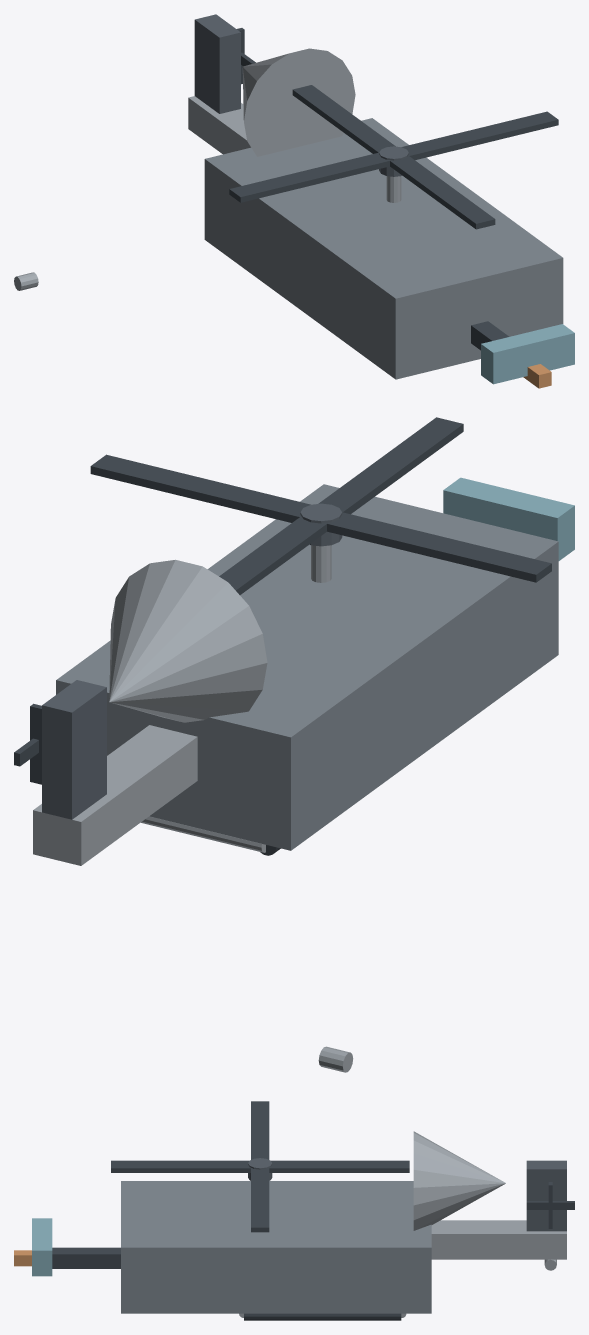
The model's file is human_mg_helicopter.glb.
3 views of the same model, one above another, from view 1: azimuth 30°, elevation 25°; view 2: azimuth 150°, elevation 25°; view 3: azimuth 270°, elevation 25° (orthographic). The views are drawn at different scales.
Parts seen in each view (by area): view 1: fuselage, nose, main_rotor_blade_a, main_rotor_blade_b, tail_fin, cockpit_glass, tail_boom, nose_gun, main_rotor_hub, nose_muzzle; view 2: fuselage, nose, tail_boom, main_rotor_blade_a, tail_fin, main_rotor_blade_b, cockpit_glass, skid_cross_rear, main_rotor_hub, tail_rotor_blade_a; view 3: fuselage, tail_boom, nose, main_rotor_blade_b, tail_fin, main_rotor_blade_a, nose_gun, skid_right, cockpit_glass, tail_rotor_blade_b, nose_muzzle.
Boxes of the visible parts, left/top/right/bottom form: fuselage: left=204, top=118, right=563, bottom=379; nose: left=242, top=48, right=355, bottom=156; main_rotor_blade_a: left=229, top=111, right=558, bottom=202; main_rotor_blade_b: left=292, top=85, right=495, bottom=229; tail_fin: left=194, top=14, right=240, bottom=113; cockpit_glass: left=481, top=324, right=574, bottom=384; tail_boom: left=188, top=96, right=250, bottom=154; nose_gun: left=471, top=321, right=509, bottom=350; main_rotor_hub: left=379, top=146, right=408, bottom=176; nose_muzzle: left=523, top=364, right=551, bottom=388; fuselage: left=56, top=484, right=558, bottom=850; nose: left=109, top=559, right=267, bottom=722; tail_boom: left=33, top=725, right=197, bottom=865; main_rotor_blade_a: left=90, top=454, right=551, bottom=582; tail_fin: left=42, top=680, right=106, bottom=819; main_rotor_blade_b: left=219, top=417, right=463, bottom=594; cockpit_glass: left=443, top=477, right=574, bottom=560; skid_cross_rear: left=141, top=816, right=265, bottom=852; main_rotor_hub: left=300, top=503, right=342, bottom=546; tail_rotor_blade_a: left=30, top=703, right=41, bottom=784; fuselage: left=121, top=1181, right=431, bottom=1313; tail_boom: left=431, top=1220, right=566, bottom=1259; nose: left=413, top=1131, right=505, bottom=1230; main_rotor_blade_b: left=111, top=1160, right=409, bottom=1172; tail_fin: left=526, top=1160, right=566, bottom=1231; main_rotor_blade_a: left=251, top=1101, right=269, bottom=1232; nose_gun: left=52, top=1247, right=120, bottom=1268; skid_right: left=244, top=1313, right=401, bottom=1320; cockpit_glass: left=32, top=1218, right=52, bottom=1276; tail_rotor_blade_b: left=526, top=1201, right=574, bottom=1209; nose_muzzle: left=14, top=1250, right=31, bottom=1266.
Bounding box in the file's own units: 1.66 × 1.13 × 2.78.
